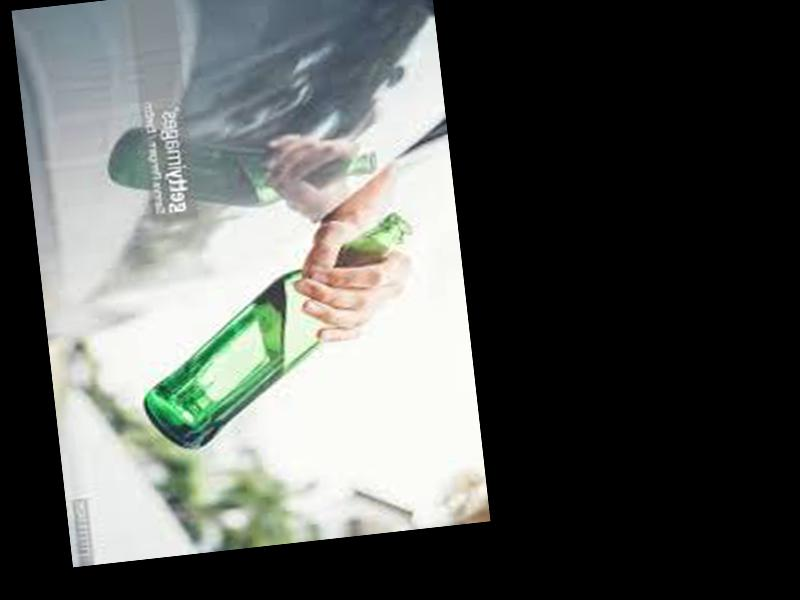Beer: (126, 208, 428, 454)
